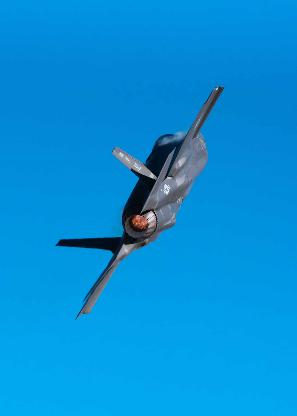F22: (54, 86, 223, 320)
